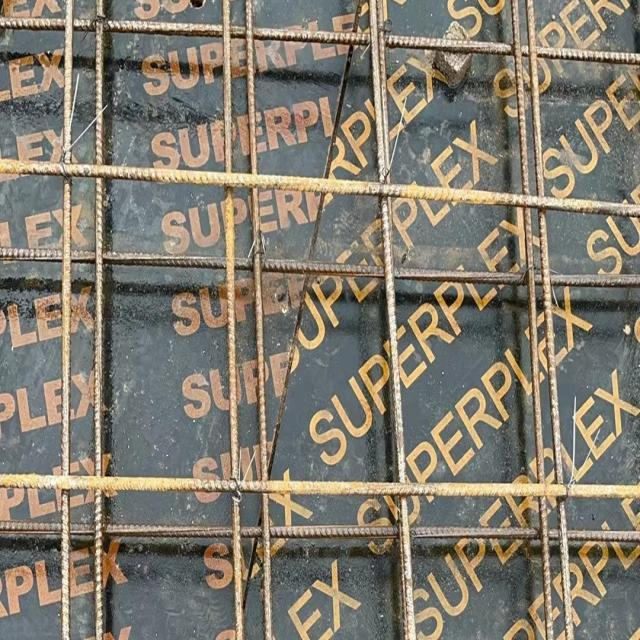ribbed bar: (0, 158, 639, 218), (366, 0, 416, 638), (0, 16, 639, 65), (0, 245, 639, 294), (508, 0, 556, 638), (527, 0, 574, 638), (0, 470, 639, 504), (243, 0, 272, 638), (0, 518, 639, 546), (218, 0, 245, 638), (91, 0, 105, 638), (59, 0, 72, 638)
